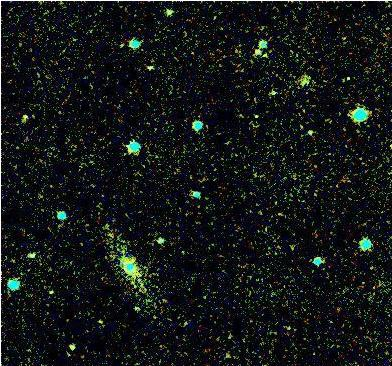star: (250, 40, 280, 70)
